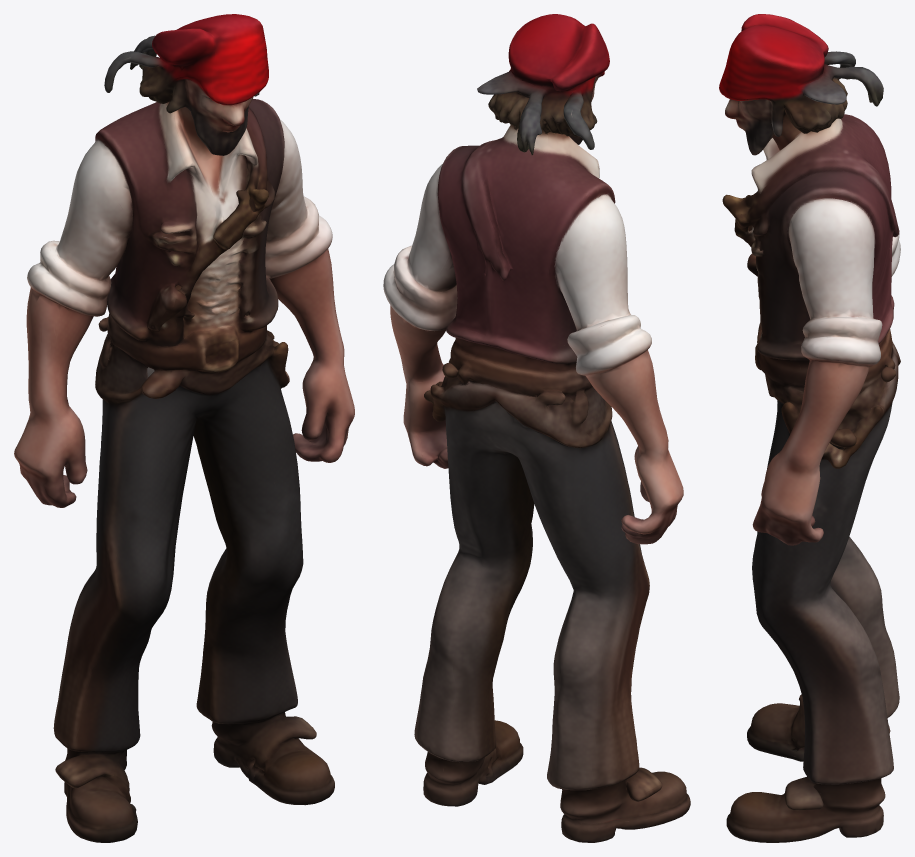
File: corsair.glb
3 views of the same model, side by side, from view 1: azimuth 30°, elevation 25°; view 2: azimuth 150°, elevation 25°; view 3: azimuth 270°, elevation 25° (orthographic). The views are drawn at different scales.
Visible parts, largest first — view 1: geometry_0; view 2: geometry_0; view 3: geometry_0.
Boxes of the visible parts, box(x1,y1,x2,y2) form: geometry_0: box(14, 14, 354, 842); geometry_0: box(383, 14, 690, 842); geometry_0: box(719, 14, 900, 842).
Bounding box in the file's own units: 0.4084 × 1 × 0.2155.
1 material, 1 textured.
